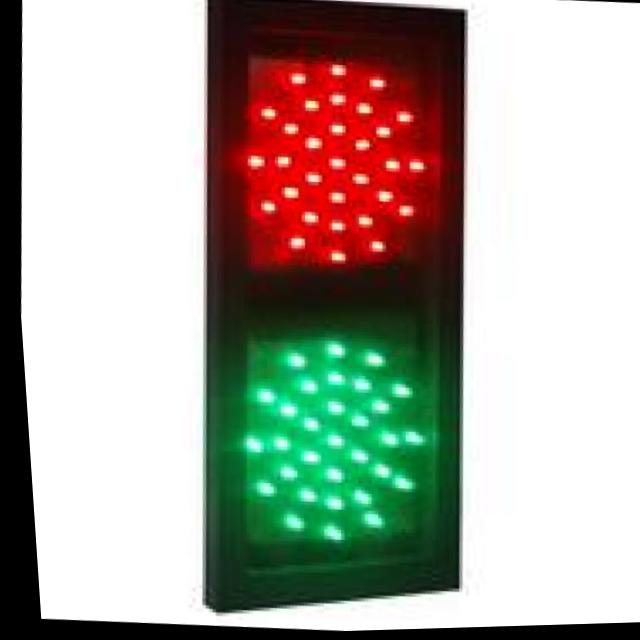green_light: (140, 269, 515, 637)
red_light: (147, 0, 492, 300)
